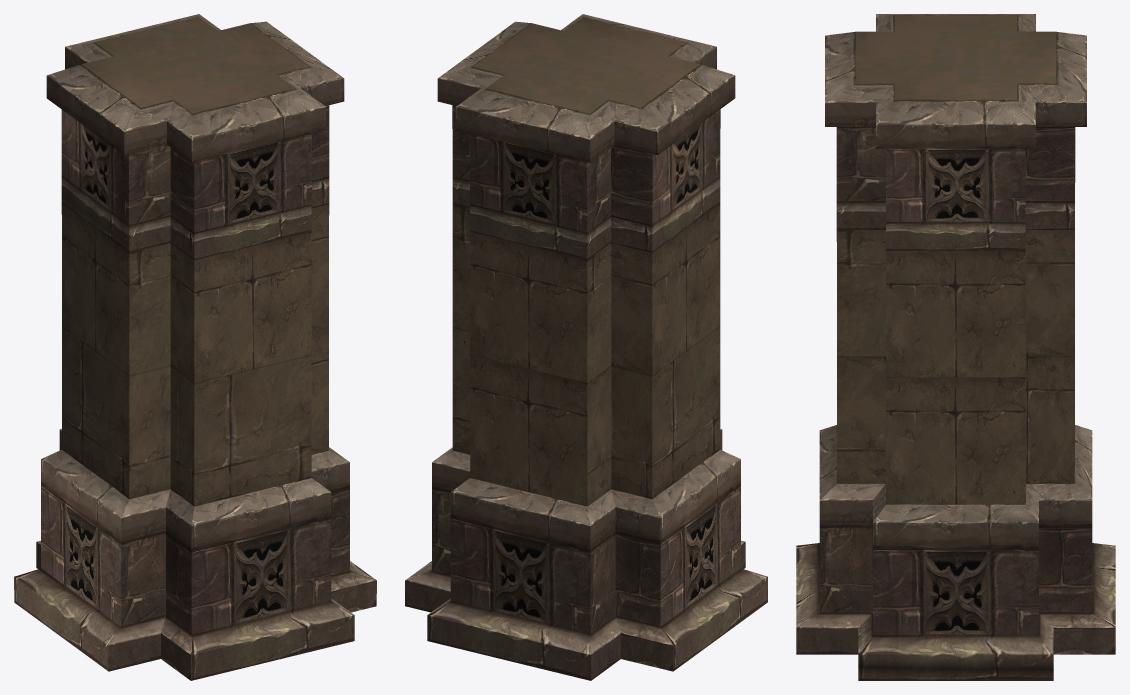
Rendered from A03_pillar_d.FBX.
3 views of the same model, side by side, from view 1: azimuth 30°, elevation 25°; view 2: azimuth 150°, elevation 25°; view 3: azimuth 270°, elevation 25° (orthographic). The views are drawn at different scales.
Visible parts, largest first — view 1: A03_pillar_d; view 2: A03_pillar_d; view 3: A03_pillar_d.
Boxes of the visible parts, x1,y1,x2,y2 form: A03_pillar_d: [14, 14, 376, 680]; A03_pillar_d: [405, 14, 767, 680]; A03_pillar_d: [796, 14, 1115, 680].
Size of the model in its own units: 2.58 by 4.96 by 2.58.
